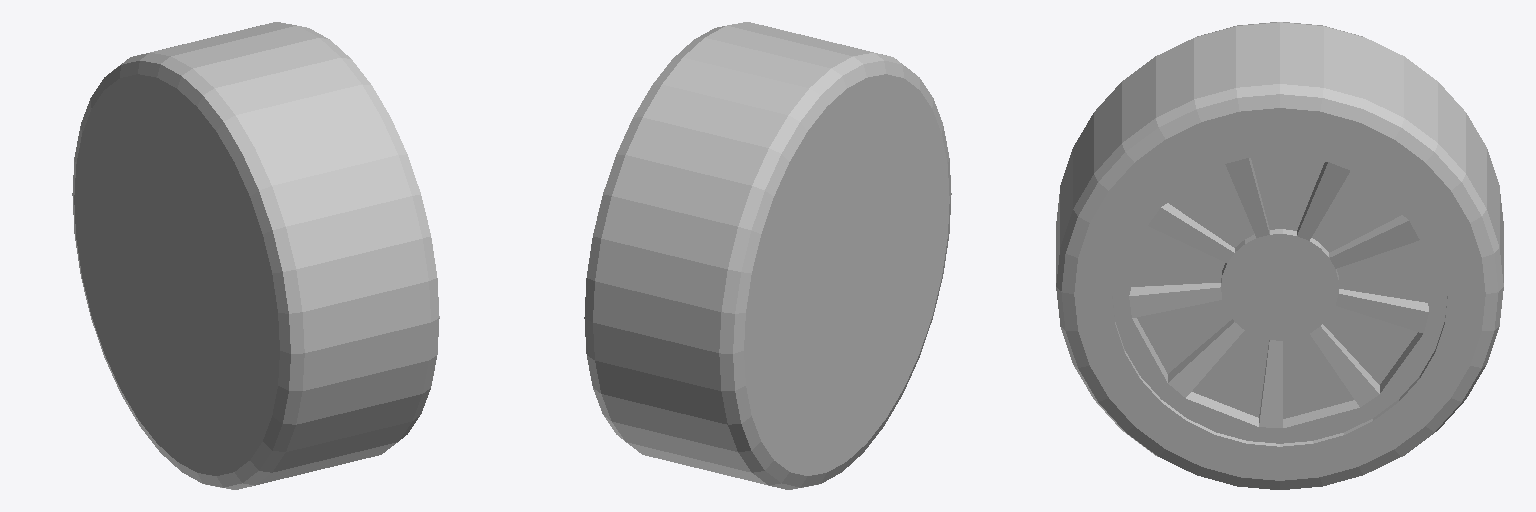
The model's file is front_right_tire.obj.
3 views of the same model, side by side, from view 1: azimuth 30°, elevation 25°; view 2: azimuth 150°, elevation 25°; view 3: azimuth 270°, elevation 25° (orthographic).
Parts seen in each view (by area): view 1: Front_right_tire; view 2: Front_right_tire; view 3: Front_right_tire.
Boxes of the visible parts, x1=… form: Front_right_tire: x1=72, y1=22, x2=439, y2=489; Front_right_tire: x1=584, y1=22, x2=951, y2=489; Front_right_tire: x1=1056, y1=22, x2=1503, y2=489.
Size of the model in its own units: 0.269 by 0.6616 by 0.6616.